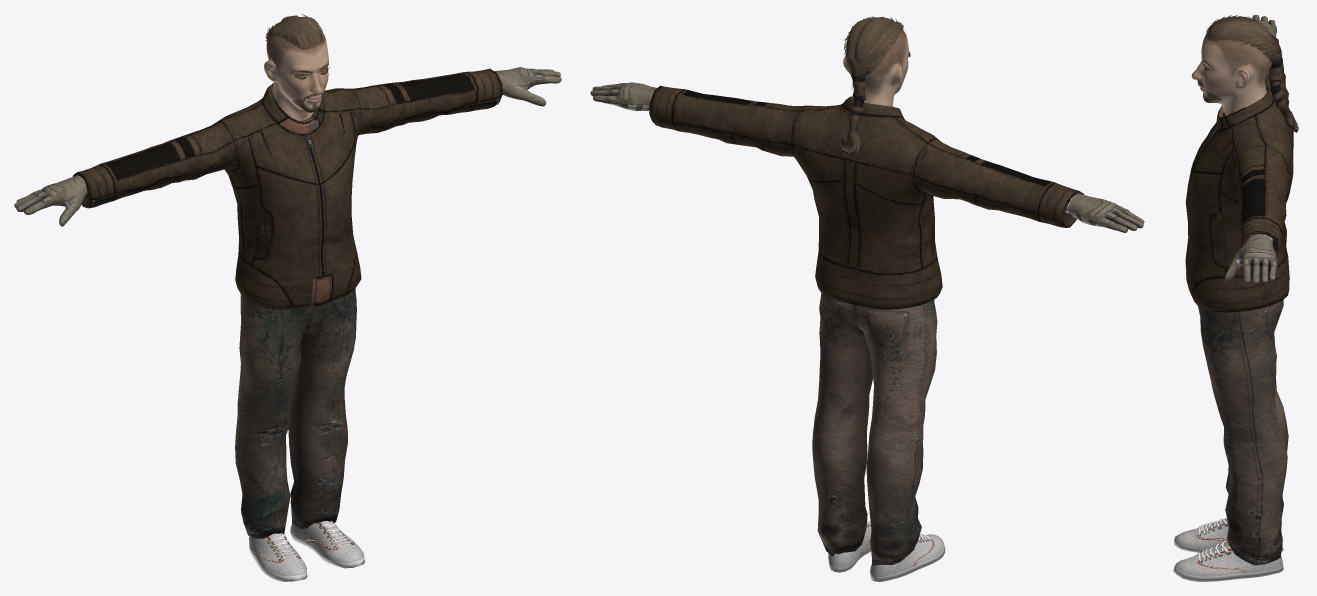
The picture shows the model from 3 angles, left to right: view 1: azimuth 30°, elevation 25°; view 2: azimuth 150°, elevation 25°; view 3: azimuth 270°, elevation 25°; orthographic projection.
Parts seen in each view (by area): view 1: Tops, Bottoms, Shoes, Body, Gloves, Hair; view 2: Tops, Bottoms, Hair, Gloves, Shoes, Body; view 3: Tops, Bottoms, Body, Shoes, Hair, Gloves.
Part boxes in pixels (left/top/right/bottom): Tops: left=72, top=68, right=502, bottom=309; Bottoms: left=235, top=288, right=356, bottom=538; Shoes: left=249, top=520, right=364, bottom=581; Body: left=264, top=29, right=328, bottom=120; Gloves: left=14, top=67, right=561, bottom=226; Hair: left=265, top=14, right=325, bottom=49; Tops: left=649, top=85, right=1084, bottom=309; Bottoms: left=812, top=293, right=937, bottom=565; Hair: left=841, top=16, right=903, bottom=154; Gloves: left=590, top=82, right=1144, bottom=232; Shoes: left=828, top=520, right=945, bottom=581; Body: left=843, top=29, right=908, bottom=106; Tops: left=1185, top=34, right=1293, bottom=312; Bottoms: left=1198, top=300, right=1288, bottom=565; Body: left=1191, top=32, right=1271, bottom=115; Shoes: left=1173, top=517, right=1283, bottom=581; Hair: left=1206, top=15, right=1298, bottom=132; Gloves: left=1224, top=15, right=1277, bottom=283.
Size of the model in its own units: 194 by 182 by 39.53.
Materials: 6 (6 with a texture image).
